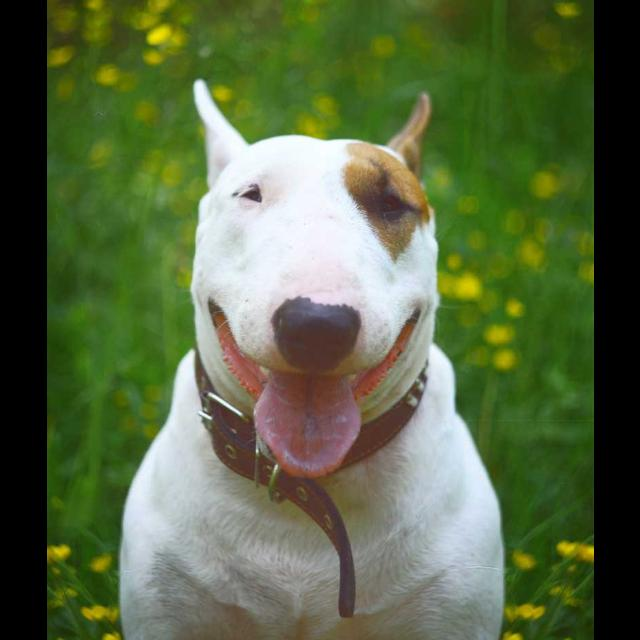bullterrier: (118, 79, 506, 640)
